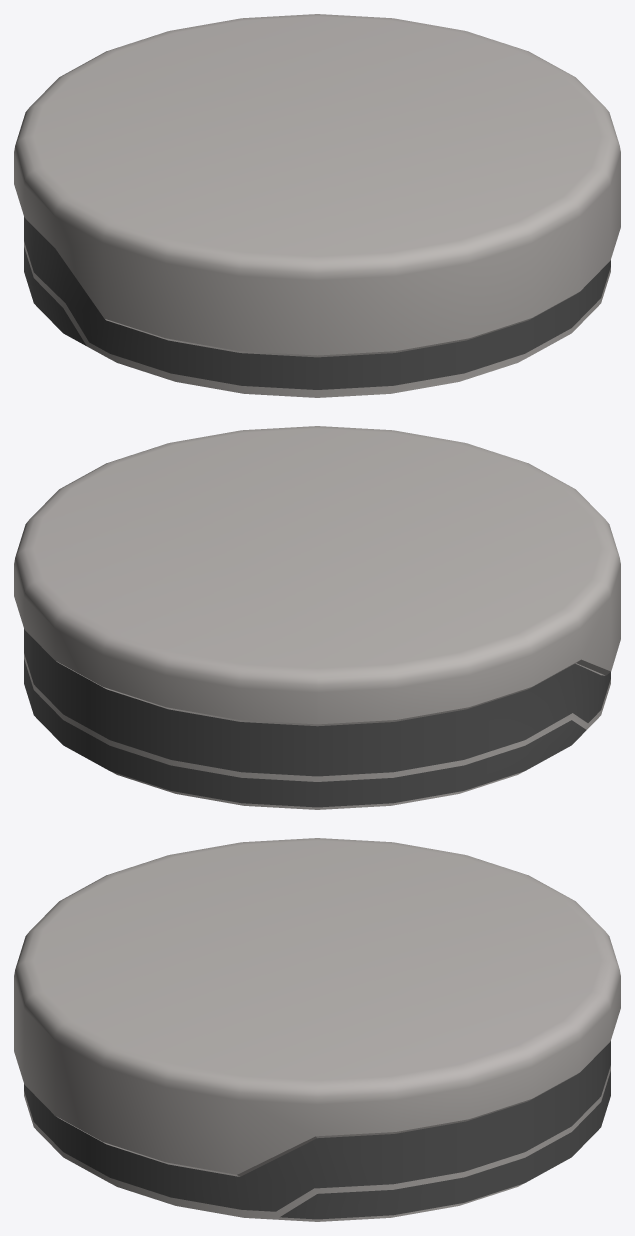
File: MOb_Stool_003.fbx
3 renders of one model, top to bottom at view 1: azimuth 30°, elevation 25°; view 2: azimuth 150°, elevation 25°; view 3: azimuth 270°, elevation 25°, orthographic.
Visible parts, largest first — view 1: MOb_Stool_003; view 2: MOb_Stool_003; view 3: MOb_Stool_003.
Boxes of the visible parts, left/top/right/bottom form: MOb_Stool_003: left=14, top=14, right=620, bottom=397; MOb_Stool_003: left=14, top=426, right=620, bottom=809; MOb_Stool_003: left=14, top=838, right=620, bottom=1221.
Bounding box in the file's own units: 0.7 × 0.18 × 0.7.
